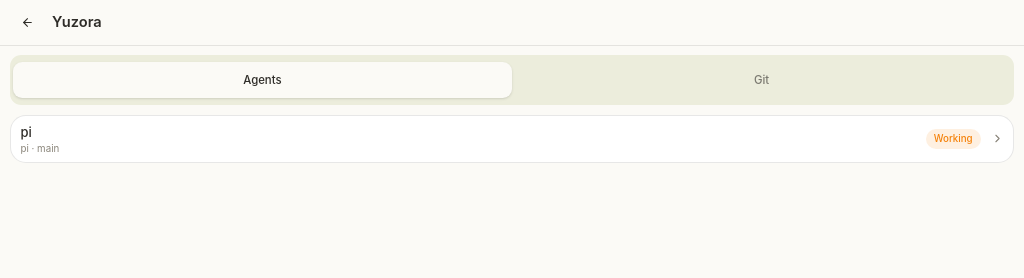
Test: Space screen tabs › offers Agents and Git, opening on the agents when there are some
Press the mouse on the tab "Git" at (762, 80), box x1=512 y1=62 x2=1011 y2=98
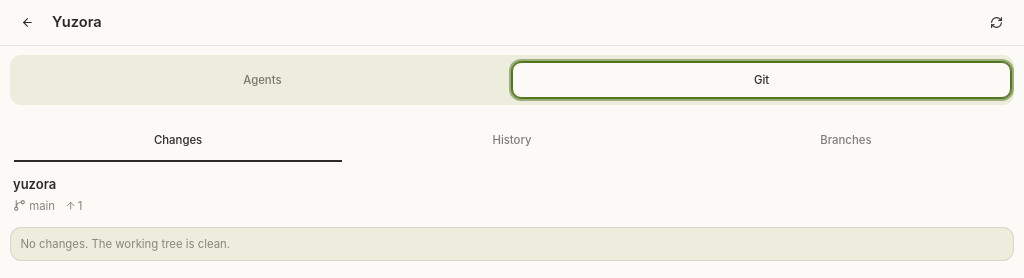
Check: the text "yuzora" is shown, box x1=13 y1=176 x2=56 y2=192
